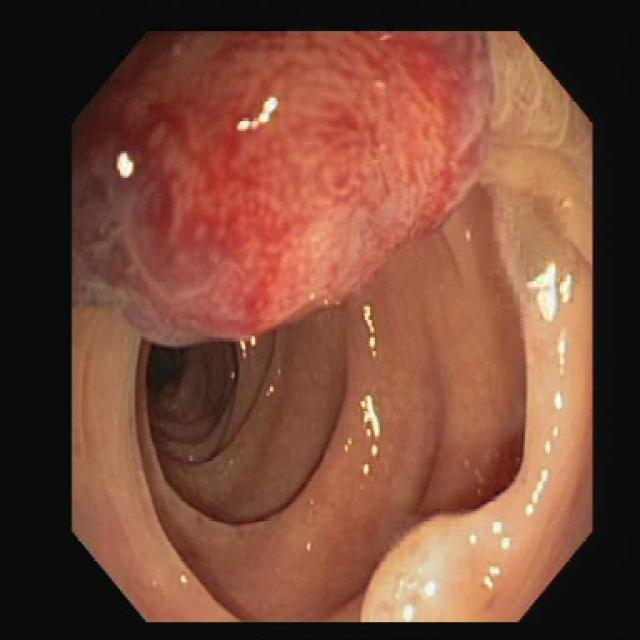tumor: (75, 33, 503, 340)
